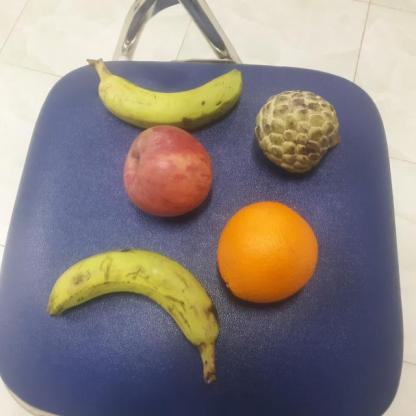annona: (252, 87, 342, 176)
apple: (122, 124, 216, 218)
banana: (46, 244, 222, 346), (92, 61, 247, 128)
orange: (215, 199, 321, 303)
